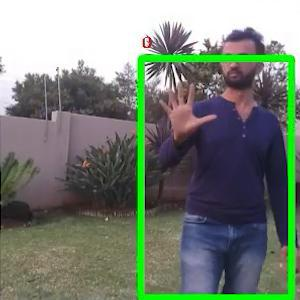follow_hand: (156, 77, 217, 140)
